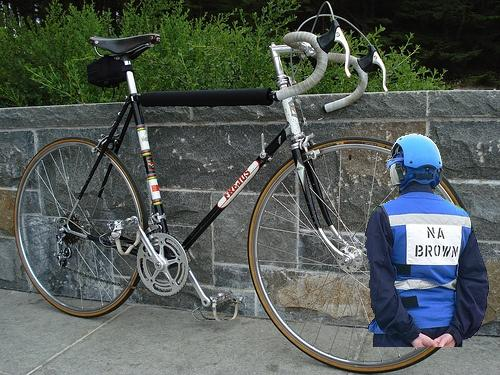tampered: (366, 134, 489, 347)
